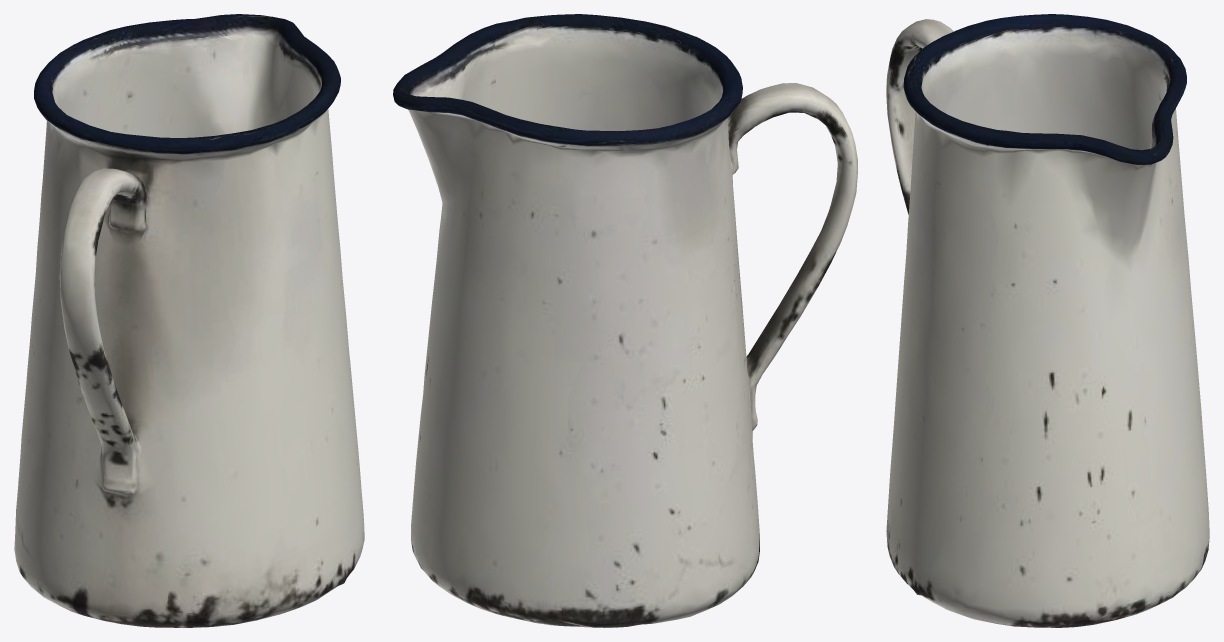
The model's file is jarro.glb.
The picture shows the model from 3 angles, left to right: view 1: azimuth 30°, elevation 25°; view 2: azimuth 150°, elevation 25°; view 3: azimuth 270°, elevation 25°; orthographic projection.
Visible parts, largest first — view 1: geometry_0; view 2: geometry_0; view 3: geometry_0.
Boxes of the visible parts, <box> form: geometry_0: <box>14,14,364,627</box>; geometry_0: <box>393,14,857,627</box>; geometry_0: <box>886,14,1209,627</box>.
Size of the model in its own units: 0.15 by 0.2 by 0.12.
1 material, 1 textured.
